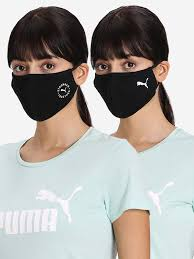with-mask: (7, 21, 90, 134), (94, 14, 170, 119)
